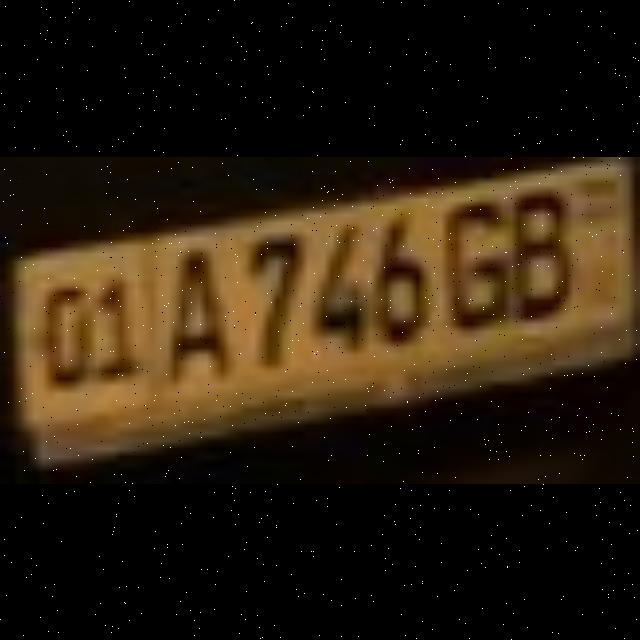0: (38, 281, 86, 375)
1: (94, 273, 132, 367)
4: (304, 210, 360, 336)
6: (366, 210, 414, 328)
7: (242, 226, 288, 360)
A: (164, 242, 226, 366)
B: (508, 180, 562, 304)
G: (437, 195, 499, 312)
